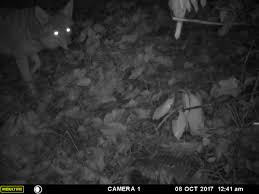fox: (5, 8, 97, 96)
